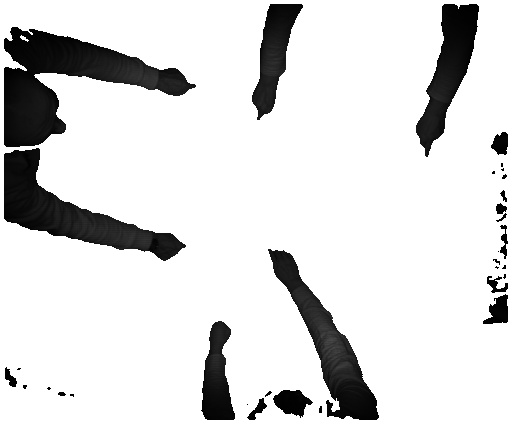fist: (208, 320, 231, 351)
hand: (264, 248, 306, 287), (416, 116, 447, 159), (156, 229, 191, 263), (161, 64, 199, 95), (248, 82, 279, 119)
